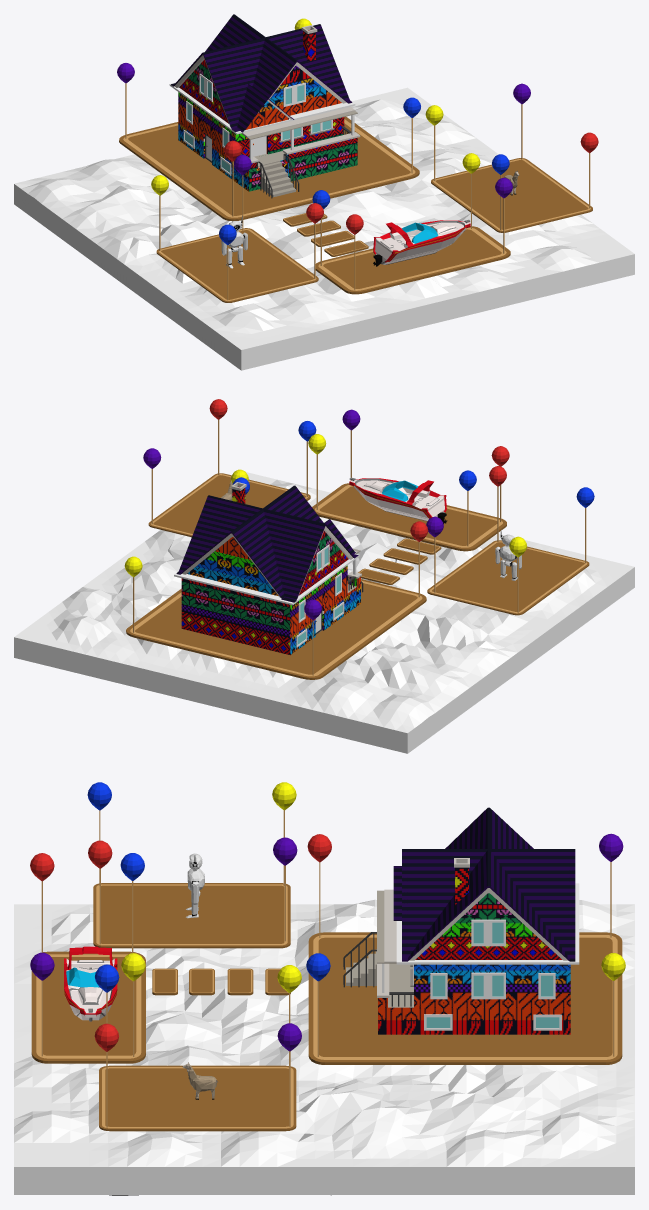
3 views of the same model, one above another, from view 1: azimuth 30°, elevation 25°; view 2: azimuth 150°, elevation 25°; view 3: azimuth 270°, elevation 25° (orthographic). The views are drawn at different scales.
Visible parts, largest first — view 1: Cube.013, Cube.966, VEHICLES_BOAT, OBJRANDOM_PLATZEEBOT; view 2: Cube.013, Cube.966, VEHICLES_BOAT, OBJRANDOM_PLATZEEBOT; view 3: Cube.013, Cube.966, VEHICLES_BOAT, OBJRANDOM_PLATZEEBOT.
Part boxes in pixels (x1=…): Cube.013: x1=14, y1=18, x2=634, y2=370; Cube.966: x1=169, y1=14, x2=360, y2=198; VEHICLES_BOAT: x1=373, y1=219, x2=470, y2=266; OBJRANDOM_PLATZEEBOT: x1=221, y1=216, x2=247, y2=268; Cube.013: x1=14, y1=399, x2=634, y2=753; Cube.966: x1=174, y1=482, x2=363, y2=655; VEHICLES_BOAT: x1=349, y1=477, x2=447, y2=523; OBJRANDOM_PLATZEEBOT: x1=495, y1=530, x2=521, y2=580; Cube.013: x1=14, y1=782, x2=634, y2=1194; Cube.966: x1=343, y1=807, x2=579, y2=1034; VEHICLES_BOAT: x1=64, y1=946, x2=117, y2=1021; OBJRANDOM_PLATZEEBOT: x1=186, y1=853, x2=204, y2=918.
Bounding box in the file's own units: 4000 × 1661 × 4000.
Materials: 34 (5 with a texture image).
